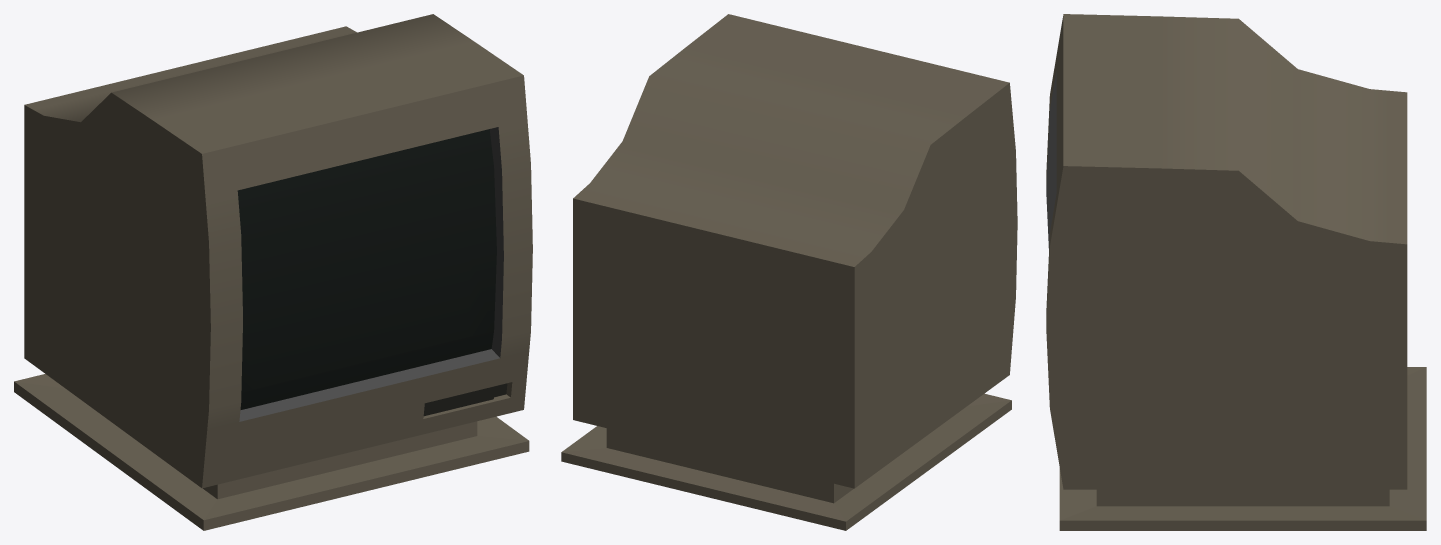
The model's file is monitorcrt.obj.
3 renders of one model, left to right at view 1: azimuth 30°, elevation 25°; view 2: azimuth 150°, elevation 25°; view 3: azimuth 270°, elevation 25°, orthographic. The views are drawn at different scales.
Parts seen in each view (by area): view 1: pCube1 polySurface3 polySurface1, polySurface2 pCube1; view 2: pCube1 polySurface3 polySurface1; view 3: pCube1 polySurface3 polySurface1.
Part boxes in pixels (x1,y1,x2,y2): pCube1 polySurface3 polySurface1: [14, 14, 532, 530]; polySurface2 pCube1: [237, 129, 496, 409]; pCube1 polySurface3 polySurface1: [561, 14, 1017, 530]; pCube1 polySurface3 polySurface1: [1046, 14, 1426, 530].
Bounding box in the file's own units: 38.38 × 42.28 × 40.13.
